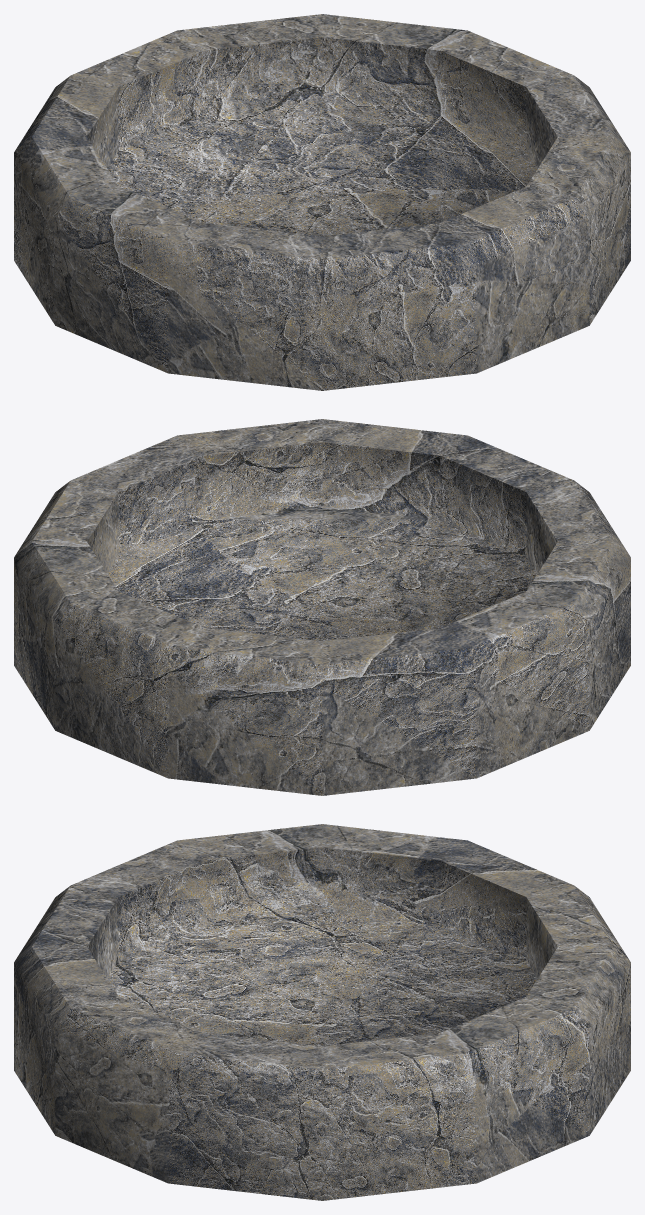
Rendered from chapel_lock.glb.
3 renders of one model, top to bottom at view 1: azimuth 30°, elevation 25°; view 2: azimuth 150°, elevation 25°; view 3: azimuth 270°, elevation 25°, orthographic.
Visible parts, largest first — view 1: lock; view 2: lock; view 3: lock.
Boxes of the visible parts, x1,y1,x2,y2 form: lock: [14, 14, 630, 390]; lock: [14, 419, 630, 795]; lock: [14, 824, 630, 1200].
Size of the model in its own units: 0.6877 by 0.1522 by 0.6877.
1 material, 1 textured.
